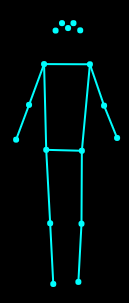mountain: (10, 14, 122, 289)
